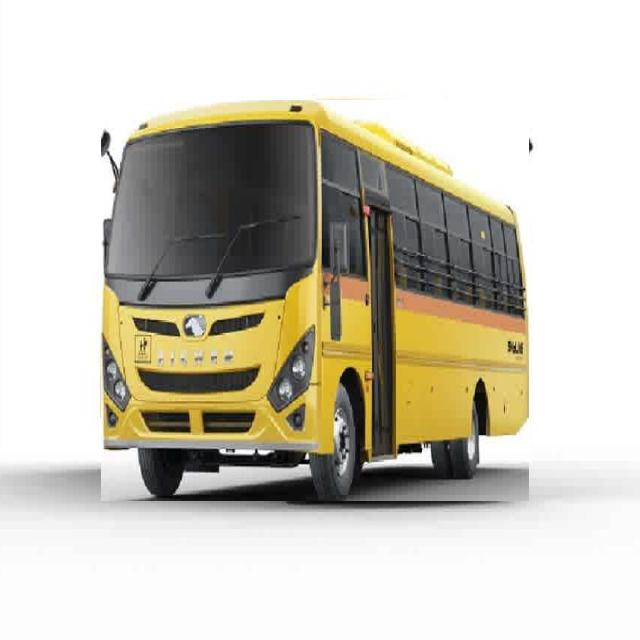bus: (101, 100, 529, 501)
